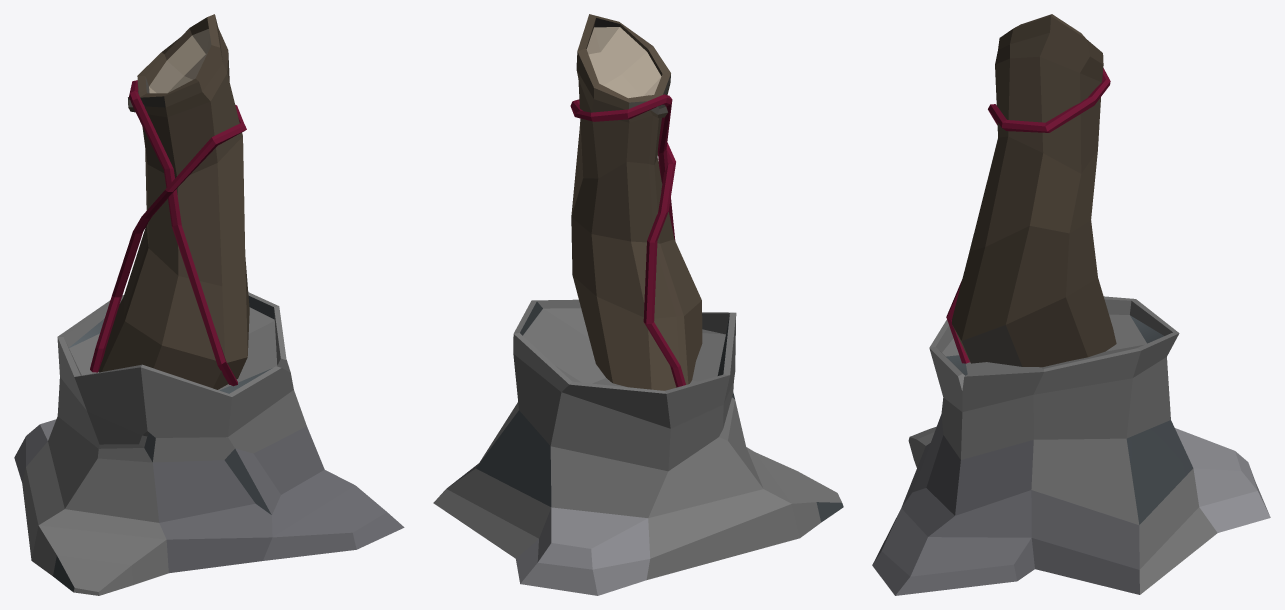
The model's file is Stump.fbx.
The picture shows the model from 3 angles, left to right: view 1: azimuth 30°, elevation 25°; view 2: azimuth 150°, elevation 25°; view 3: azimuth 270°, elevation 25°; orthographic projection. The views are drawn at different scales.
Parts seen in each view (by area): view 1: Stump 1, Stump; view 2: Stump 1, Stump; view 3: Stump 1, Stump.
Part boxes in pixels (x1,y1,x2,y2): Stump 1: [14, 292, 404, 595]; Stump: [90, 14, 249, 389]; Stump 1: [433, 299, 843, 595]; Stump: [570, 14, 702, 390]; Stump 1: [872, 296, 1270, 595]; Stump: [946, 14, 1116, 367].
Size of the model in its own units: 182 by 269 by 187.
